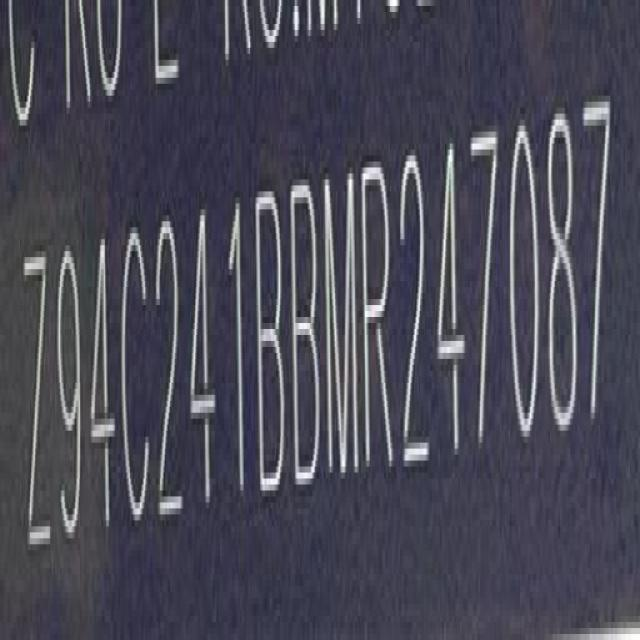0: (508, 115, 542, 448)
1: (227, 194, 249, 516)
2: (400, 149, 432, 476), (158, 208, 187, 534)
4: (436, 135, 466, 472), (190, 201, 220, 525), (90, 228, 118, 545)
7: (587, 90, 618, 433), (470, 122, 501, 459)
8: (545, 106, 576, 439)
9: (53, 245, 81, 559)
B: (256, 186, 287, 507), (294, 174, 322, 500)
C: (122, 221, 156, 541)
M: (324, 162, 358, 490)
R: (365, 155, 397, 484)
Z: (24, 243, 52, 572)
